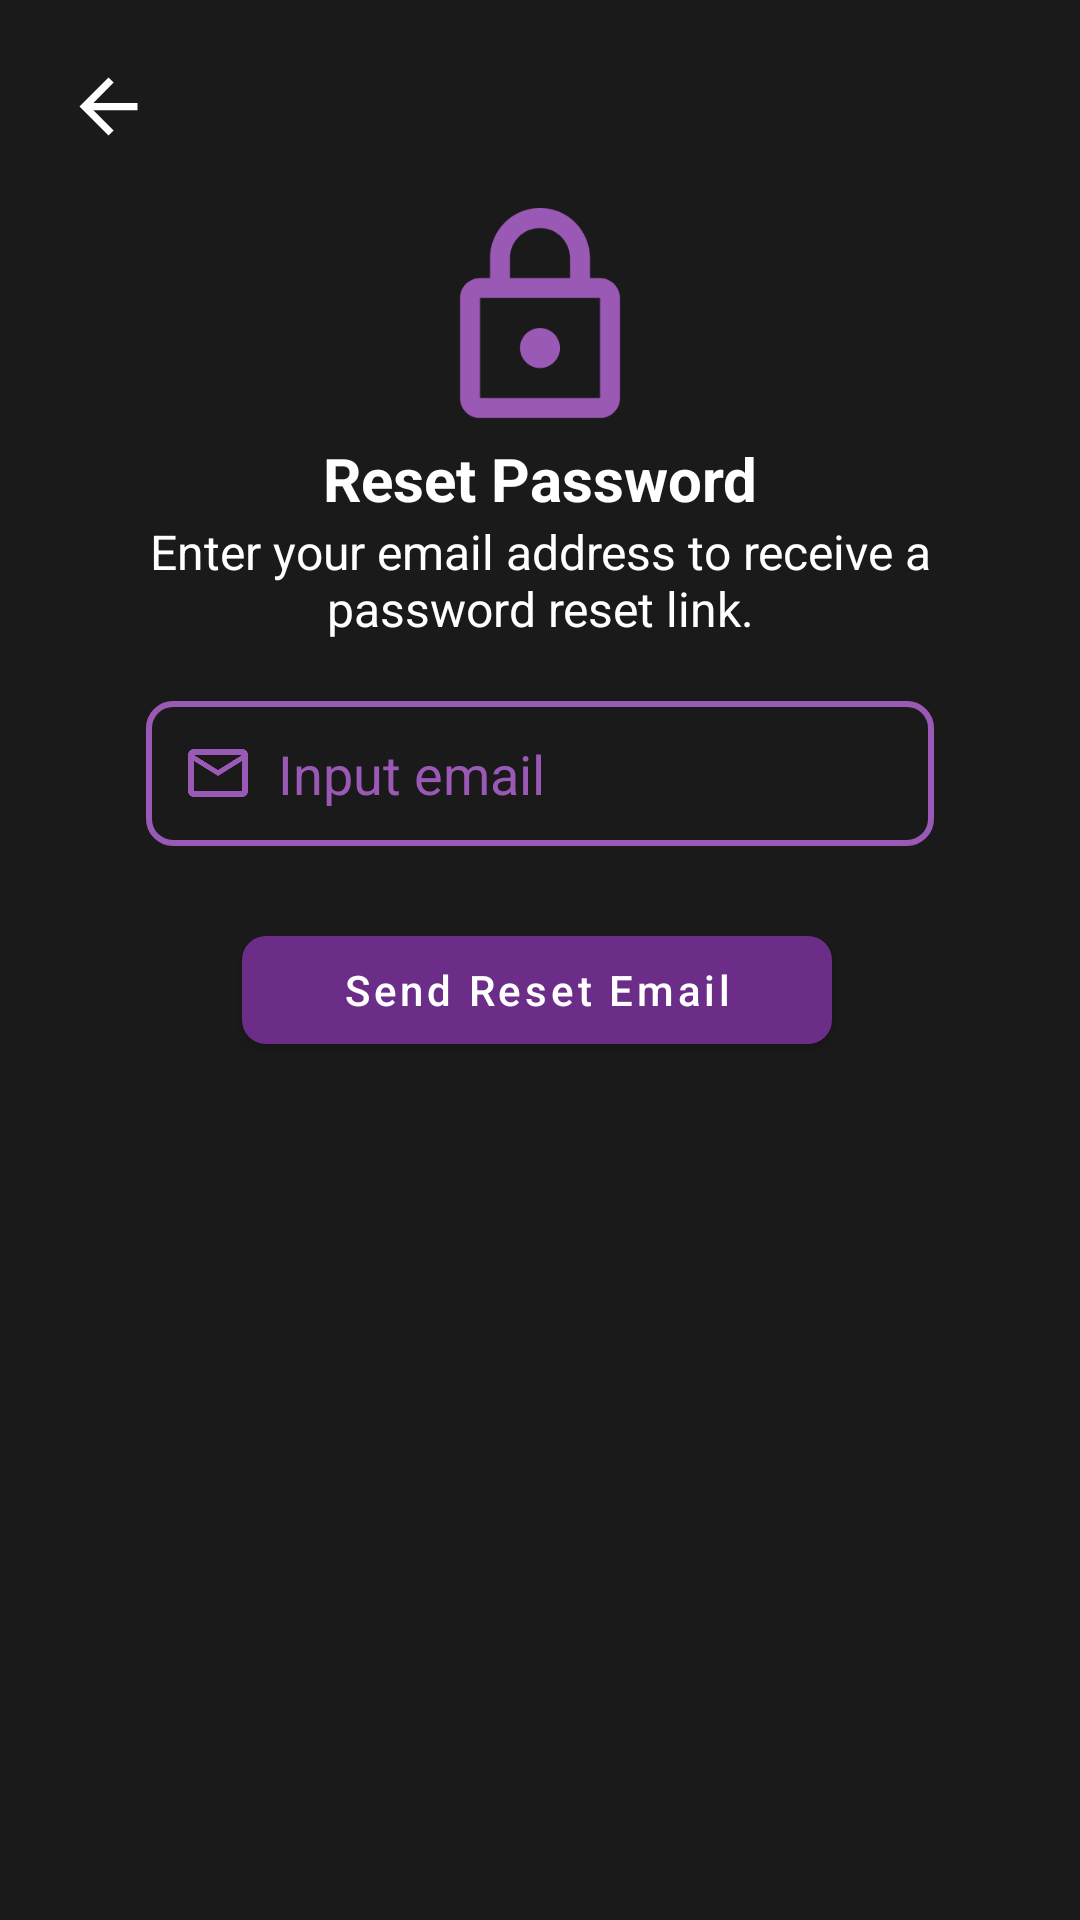

Icon click points for this 1080x1920 phone screenshot, format [x,y]:
Back: [108,106]
